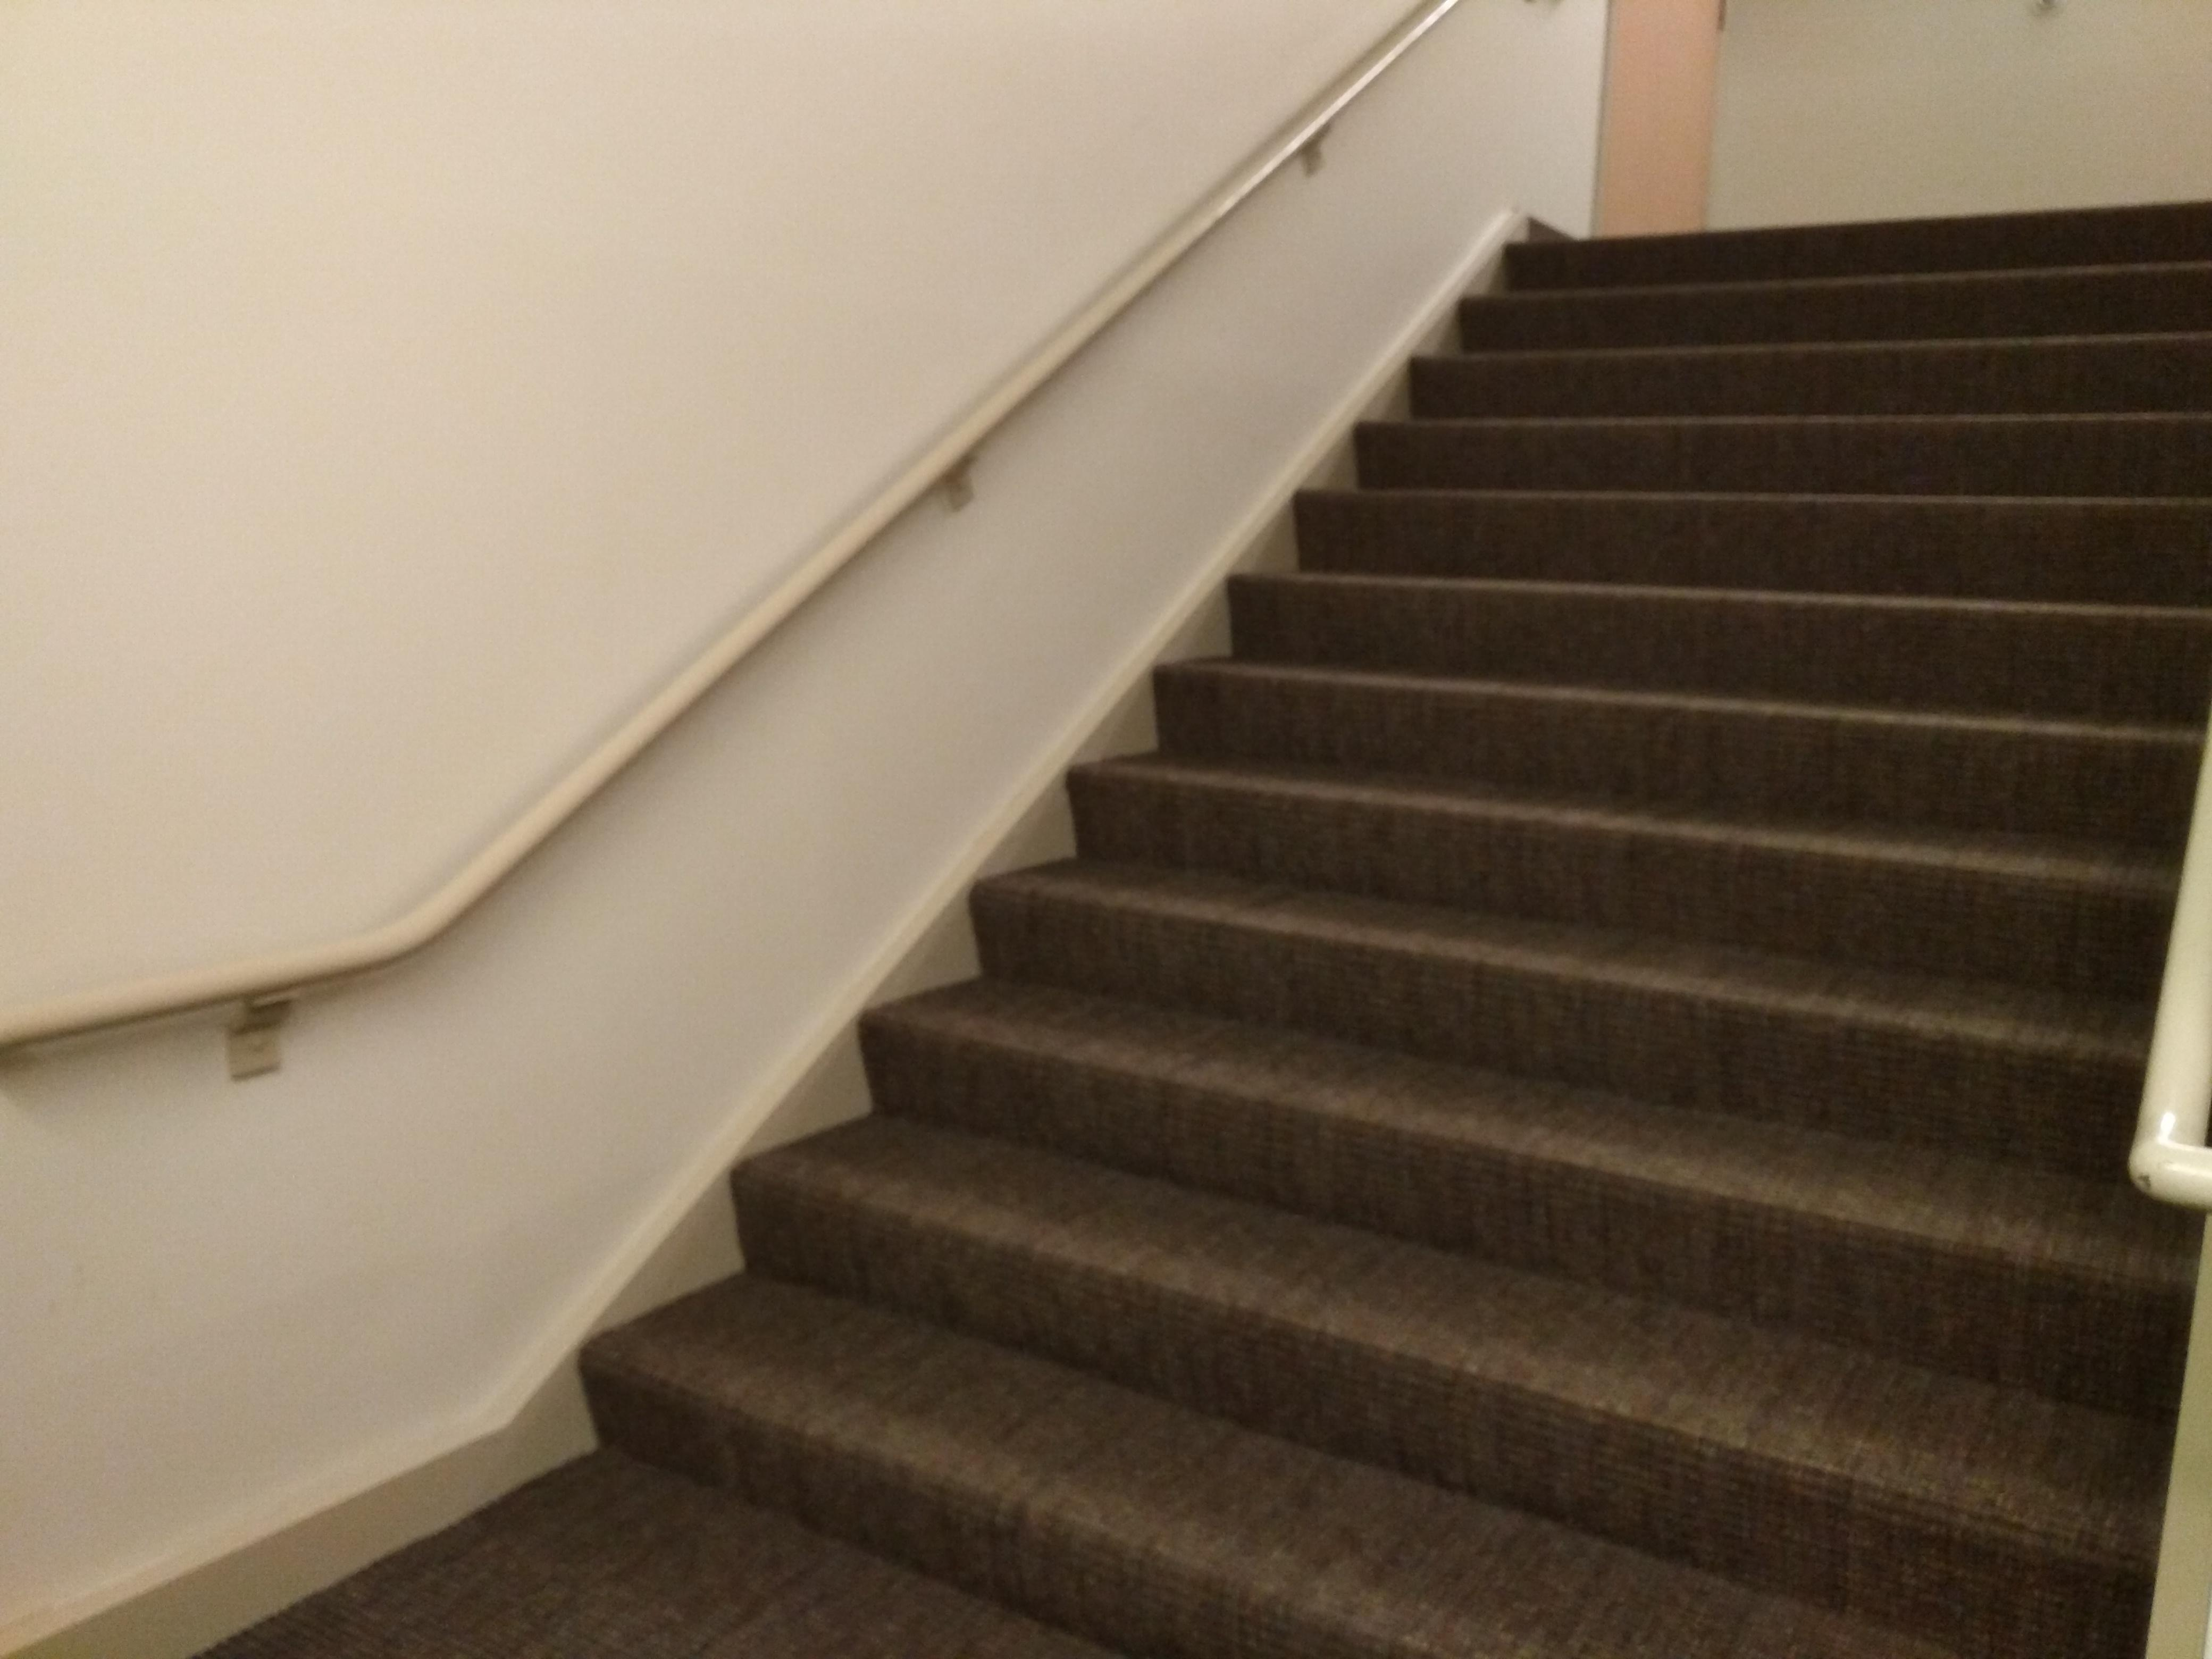stairs_up: (552, 179, 2203, 1649)
